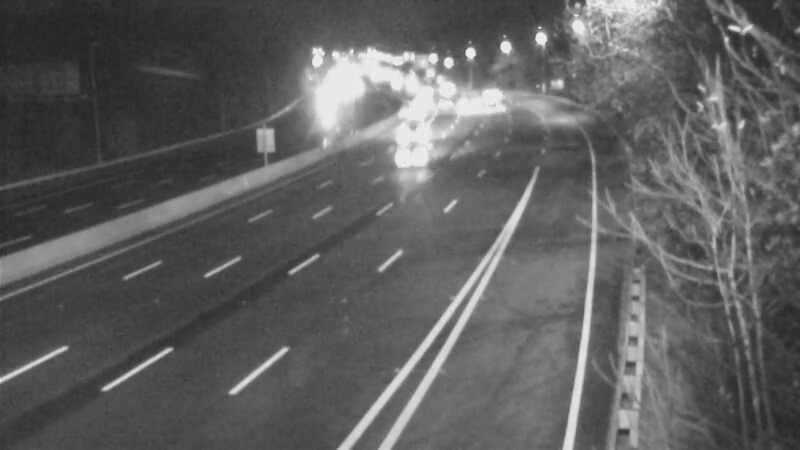vehicle: (380, 118, 460, 198), (387, 87, 437, 137), (384, 107, 434, 157), (303, 84, 353, 134)
